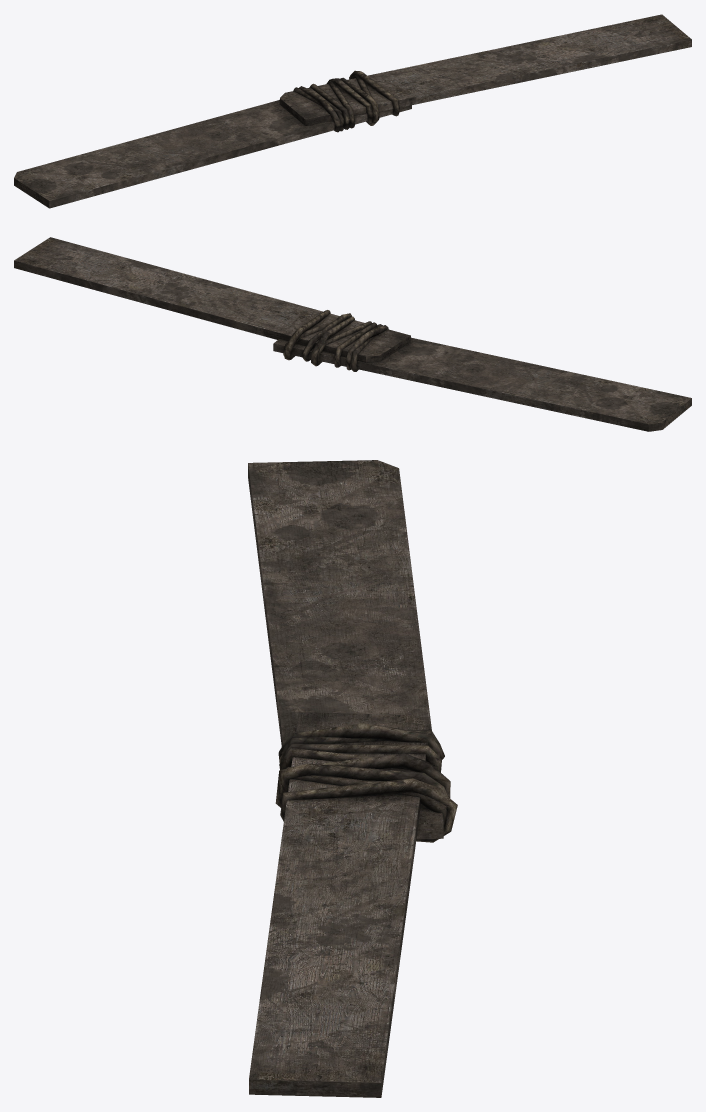
Rendered from SM_WoodBoards_4x1_01.glb.
The picture shows the model from 3 angles, top to bottom: view 1: azimuth 30°, elevation 25°; view 2: azimuth 150°, elevation 25°; view 3: azimuth 270°, elevation 25°; orthographic projection. The views are drawn at different scales.
Visible parts, largest first — view 1: SM_WoodBoards_4x1_01; view 2: SM_WoodBoards_4x1_01; view 3: SM_WoodBoards_4x1_01.
Part boxes in pixels (<box>): SM_WoodBoards_4x1_01: <box>14,14,691,208</box>; SM_WoodBoards_4x1_01: <box>14,237,691,431</box>; SM_WoodBoards_4x1_01: <box>248,460,457,1097</box>.
Size of the model in its own units: 3.77 by 0.1665 by 0.5284.
1 material, 1 textured.
